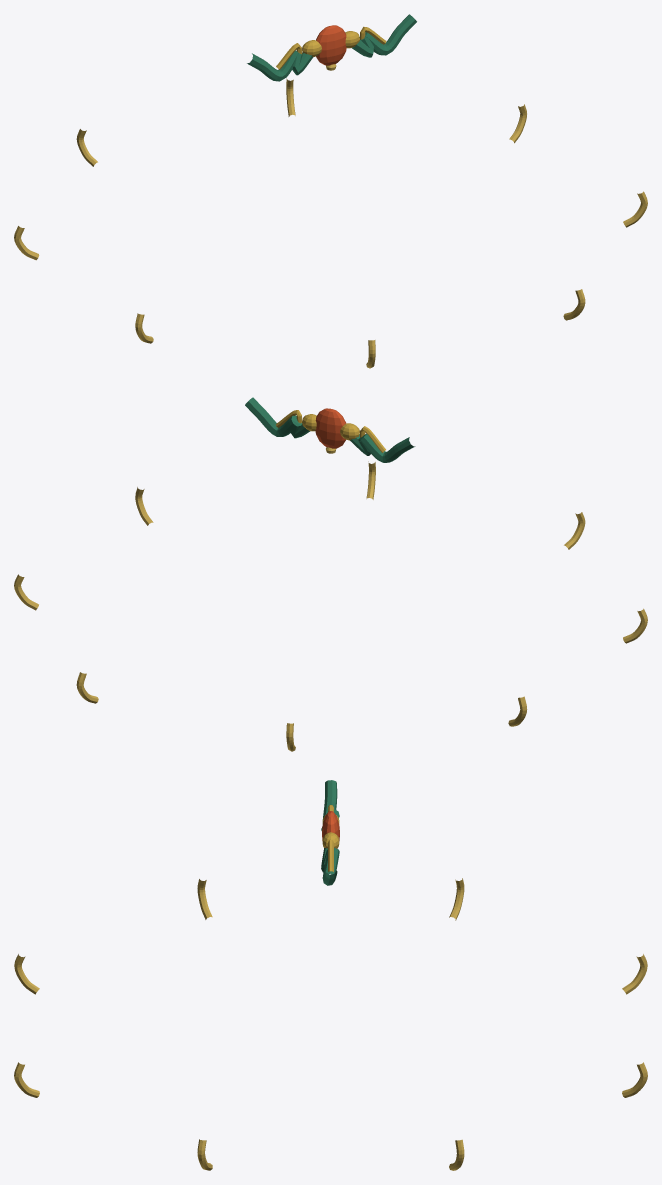
Rendered from thuongbac-hero.glb.
3 renders of one model, top to bottom at view 1: azimuth 30°, elevation 25°; view 2: azimuth 150°, elevation 25°; view 3: azimuth 270°, elevation 25°, orthographic. The views are drawn at different scales.
Visible parts, largest first — view 1: thuongbac_hero_ornaments; view 2: thuongbac_hero_ornaments; view 3: thuongbac_hero_ornaments.
Boxes of the visible parts, x1,y1,x2,y2 form: thuongbac_hero_ornaments: (14, 14, 647, 368); thuongbac_hero_ornaments: (14, 397, 647, 751); thuongbac_hero_ornaments: (14, 780, 647, 1170).
Bounding box in the file's own units: 9.98 × 4.06 × 9.98.
